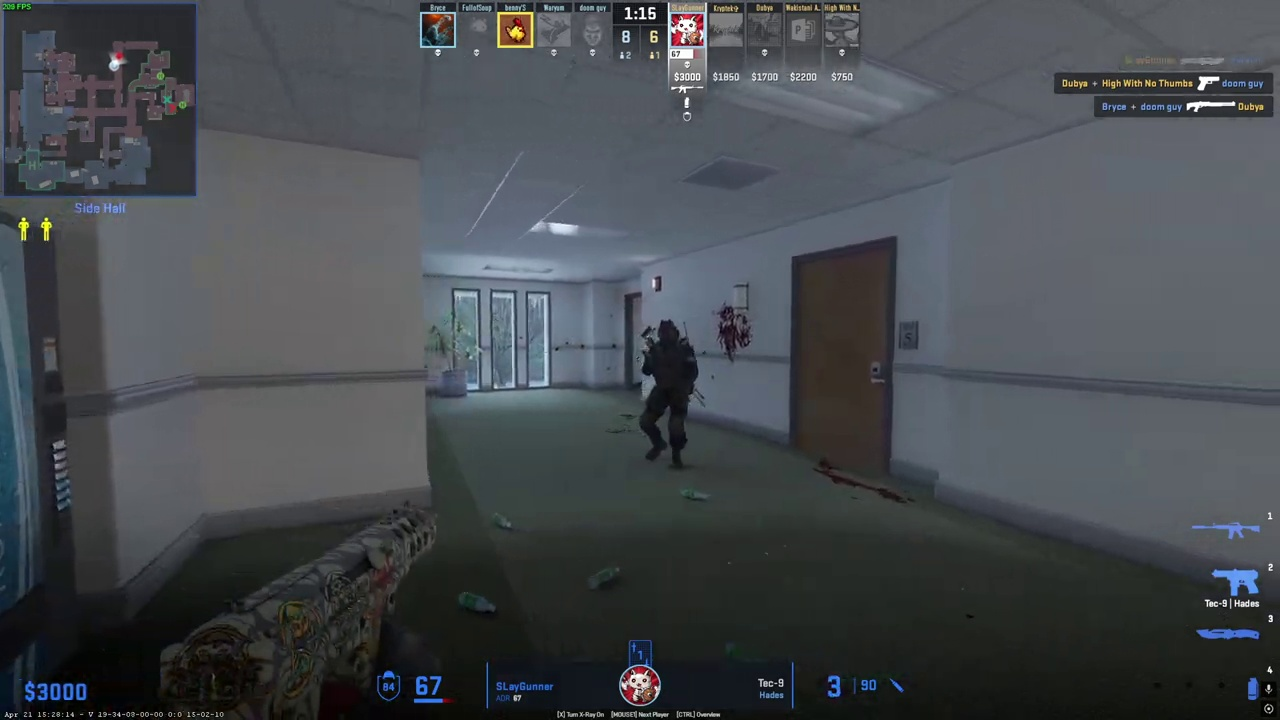CT: (639, 319, 696, 469)
